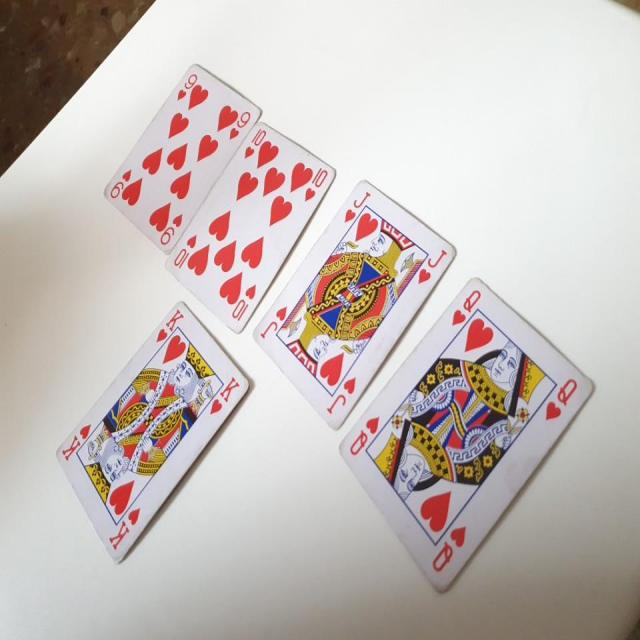10 Hearts: (157, 113, 336, 332)
9 Hearts: (102, 52, 264, 265)
J Hearts: (258, 168, 454, 439)
K Hearts: (53, 298, 255, 588)
Q Hearts: (330, 274, 604, 600)
